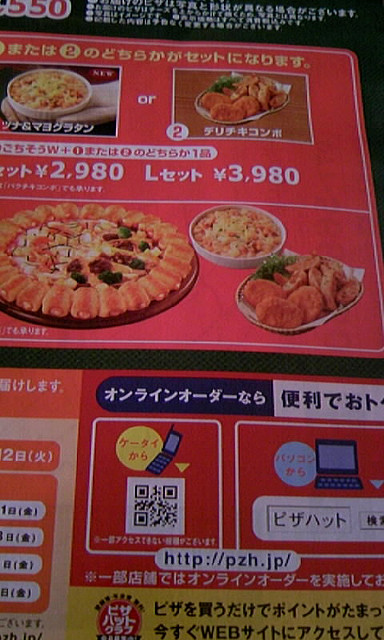QR-CODE: (134, 485, 176, 526)
